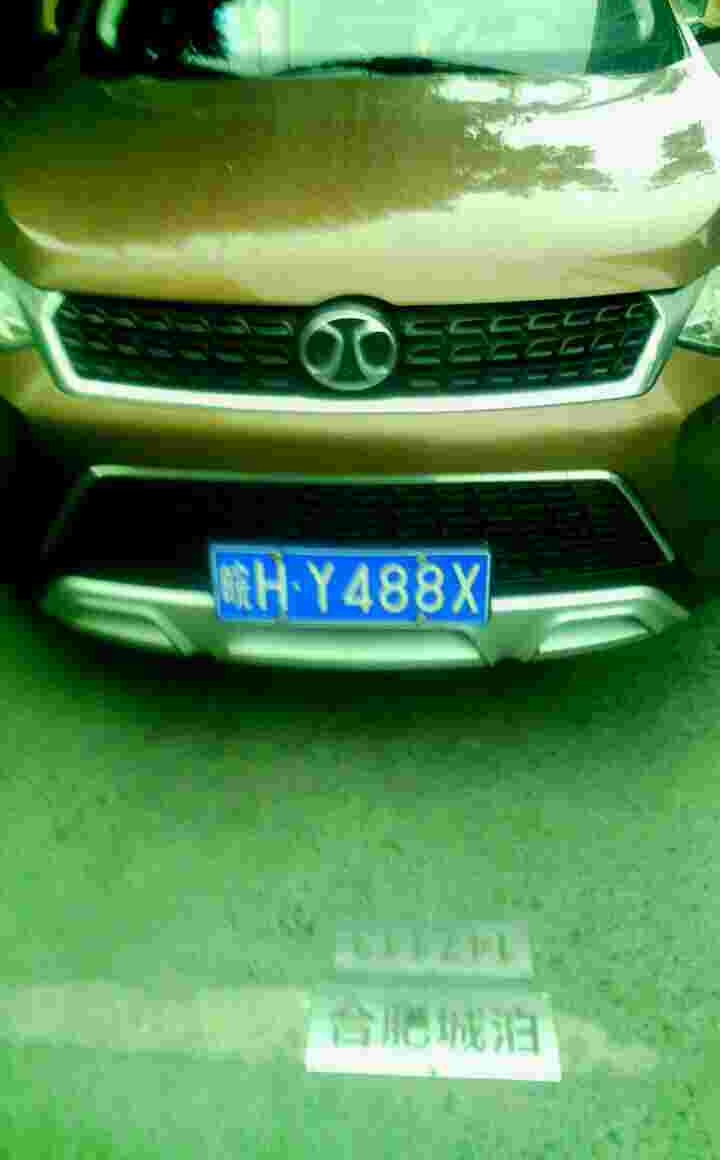license_plate: (206, 541, 490, 613)
